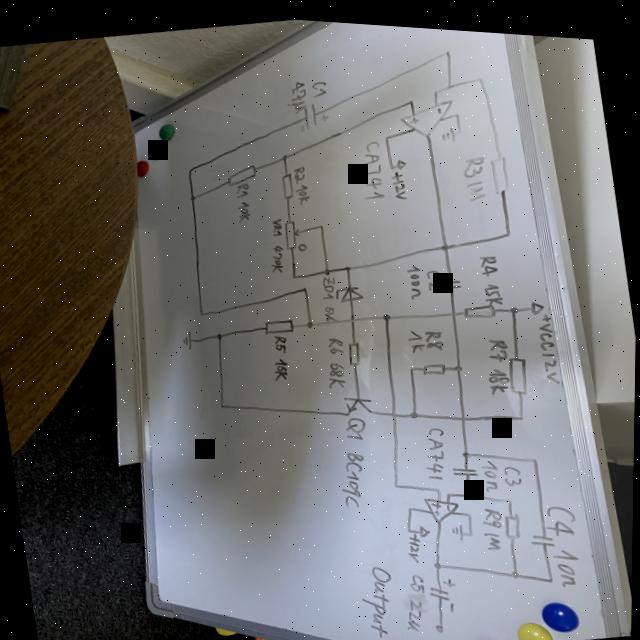capacitor: (428, 567, 464, 612), (296, 97, 330, 130), (530, 524, 557, 544), (451, 457, 481, 474), (441, 270, 464, 284)
crossover: (348, 311, 358, 321), (459, 408, 469, 416), (390, 406, 399, 413), (450, 304, 458, 311)
diode: (332, 276, 368, 302)
ground: (439, 119, 457, 138), (180, 327, 195, 349), (451, 516, 466, 536)
junction: (507, 298, 520, 308), (305, 316, 316, 326), (434, 555, 445, 565), (382, 307, 393, 317), (462, 443, 473, 453), (409, 405, 421, 414), (439, 237, 451, 246), (454, 358, 465, 367), (503, 223, 514, 232), (511, 563, 522, 572), (517, 406, 528, 415), (185, 163, 196, 172), (215, 328, 224, 337), (323, 263, 332, 272), (464, 485, 475, 492), (300, 281, 309, 289), (382, 129, 391, 137), (406, 92, 415, 100), (475, 69, 484, 77), (548, 569, 557, 577), (445, 76, 454, 84), (407, 500, 415, 508), (432, 82, 440, 90), (344, 260, 353, 267), (189, 192, 198, 199), (442, 43, 451, 50), (219, 400, 228, 407), (393, 477, 402, 484), (279, 150, 288, 157), (531, 449, 540, 456), (506, 490, 515, 497), (408, 360, 416, 367), (435, 481, 443, 488), (291, 269, 299, 276), (468, 524, 475, 532), (407, 521, 414, 528), (446, 485, 453, 492), (466, 505, 474, 511), (199, 308, 206, 314), (318, 219, 325, 225), (453, 106, 460, 112), (457, 121, 464, 127), (389, 159, 395, 164)
resistor: (504, 345, 536, 393), (487, 146, 517, 190), (281, 214, 311, 251), (225, 159, 258, 185), (262, 311, 298, 334), (502, 504, 527, 536), (462, 295, 498, 316), (345, 336, 364, 363), (279, 168, 296, 198), (420, 355, 448, 372)
source: (529, 292, 546, 309), (419, 518, 433, 533), (395, 152, 408, 165)
terminal: (435, 617, 446, 628)
text: (357, 557, 403, 635), (335, 444, 374, 507), (356, 133, 390, 197), (420, 419, 452, 476), (552, 538, 586, 582), (543, 494, 580, 533), (282, 74, 310, 111), (403, 590, 428, 629), (534, 304, 558, 344), (480, 450, 505, 487), (404, 257, 427, 296), (485, 358, 513, 389), (479, 272, 506, 302), (325, 355, 350, 386), (481, 499, 505, 531), (460, 147, 488, 174), (344, 410, 371, 438), (540, 343, 561, 379), (477, 243, 503, 272), (405, 526, 426, 559), (388, 164, 409, 197), (486, 330, 511, 357), (268, 238, 288, 271), (405, 321, 428, 349), (482, 521, 505, 548), (424, 322, 446, 347), (319, 270, 339, 297), (503, 457, 524, 481), (308, 74, 330, 96), (272, 353, 291, 378), (468, 173, 488, 196), (293, 179, 312, 203), (409, 567, 428, 590), (236, 196, 253, 221), (425, 262, 442, 286), (327, 331, 346, 352), (321, 297, 338, 319), (269, 213, 285, 236), (233, 178, 252, 197), (273, 330, 290, 351), (292, 161, 307, 182), (431, 495, 443, 504), (408, 110, 420, 119), (435, 100, 443, 109), (435, 504, 442, 511), (447, 498, 452, 505)
transistor: (341, 387, 377, 414)
